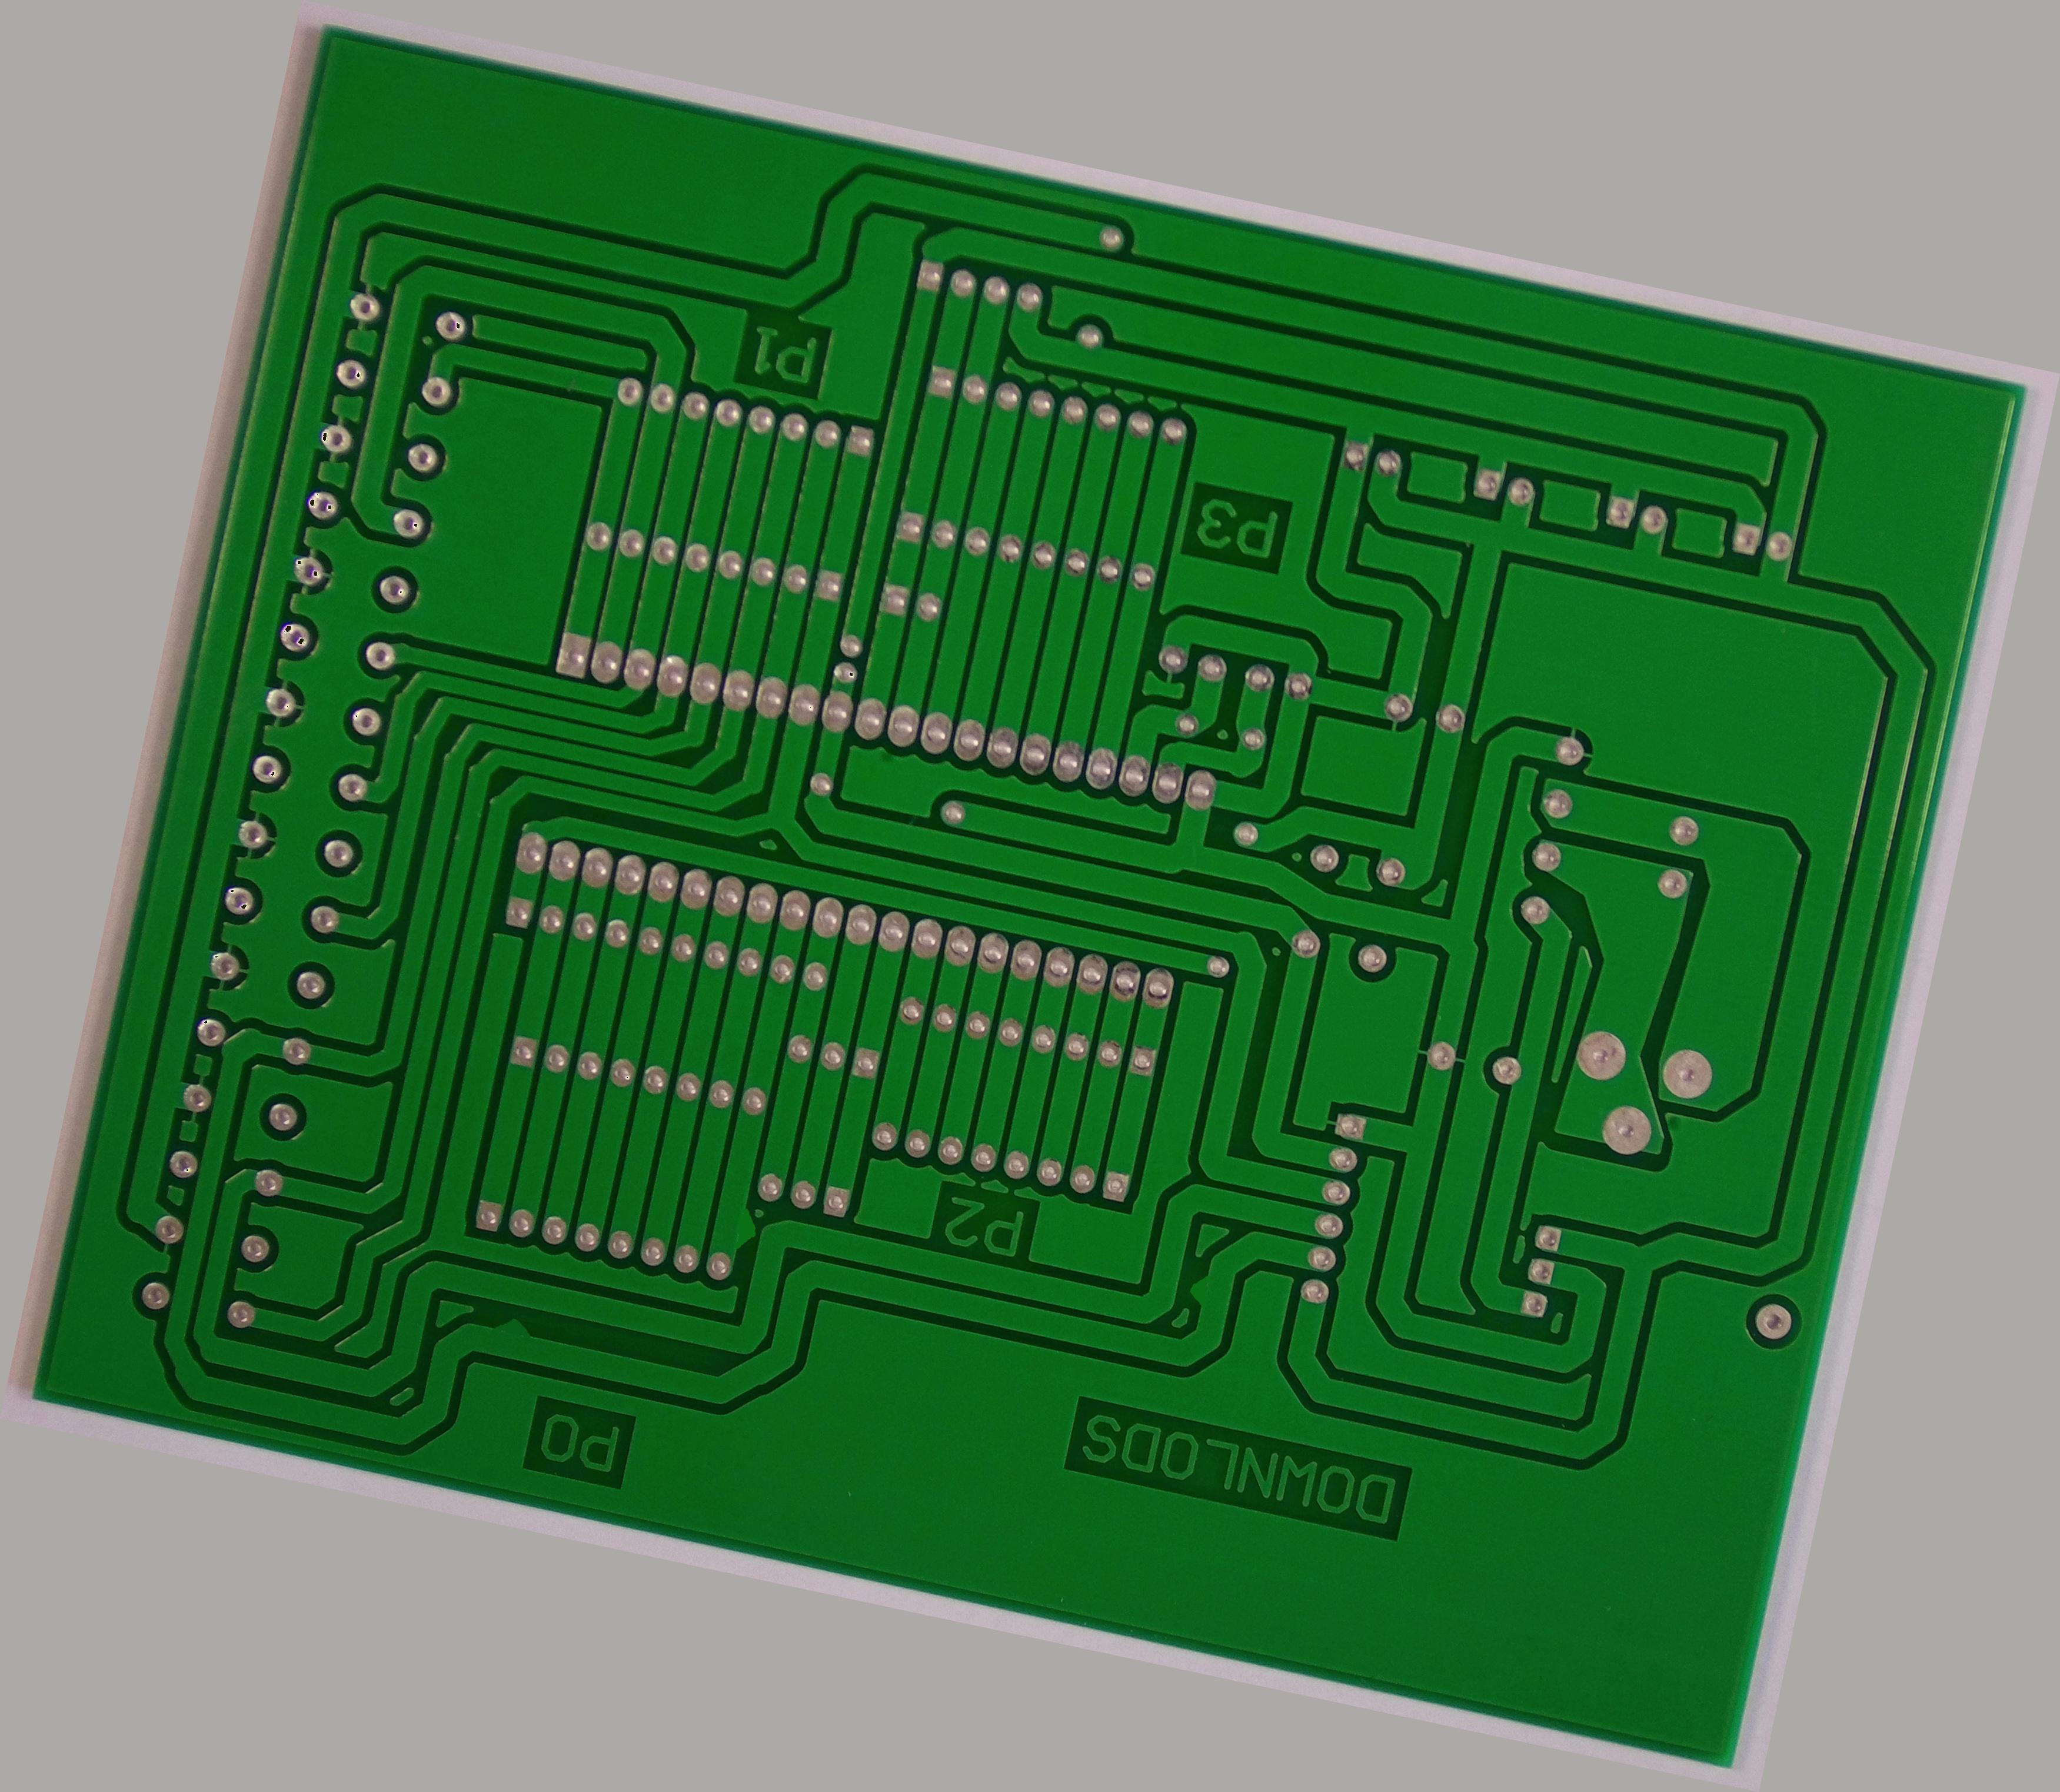spur: (718, 1198, 769, 1259), (489, 1309, 540, 1351), (1184, 1270, 1223, 1314)
